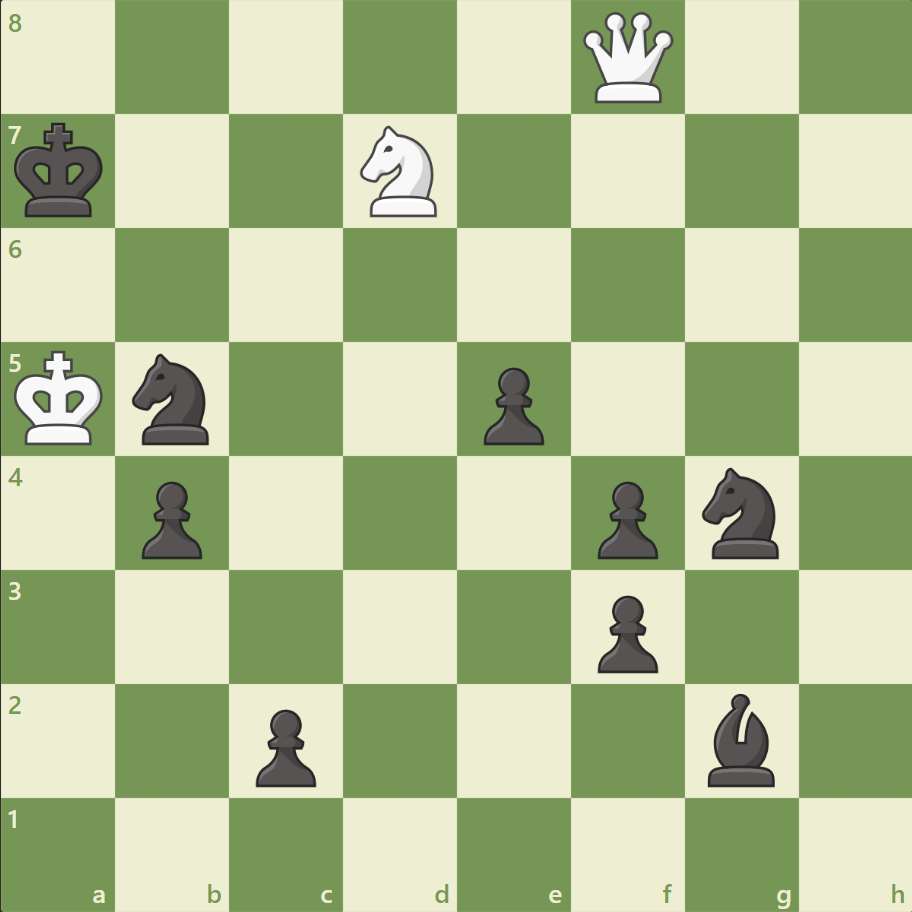K: (11, 344, 111, 452)
N: (351, 121, 449, 223)
Q: (578, 9, 677, 108)
b: (698, 687, 782, 790)
k: (11, 117, 111, 225)
n: (124, 348, 222, 450), (692, 461, 789, 564)
p: (474, 359, 549, 450), (133, 473, 208, 564), (247, 700, 322, 791), (588, 473, 662, 564), (588, 586, 662, 677)
